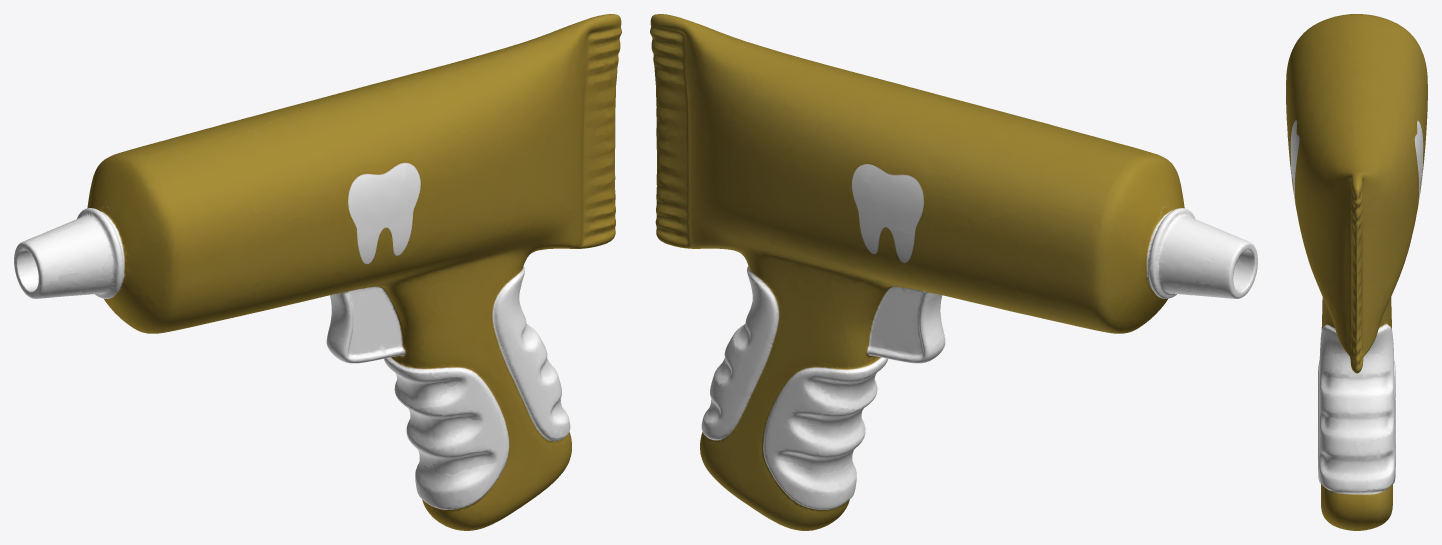
Rendered from PasteGold2.glb.
3 renders of one model, left to right at view 1: azimuth 30°, elevation 25°; view 2: azimuth 150°, elevation 25°; view 3: azimuth 270°, elevation 25°, orthographic. The views are drawn at different scales.
Visible parts, largest first — view 1: mesh_node; view 2: mesh_node; view 3: mesh_node.
Part boxes in pixels (x1=…): mesh_node: x1=14, y1=14, x2=621, y2=530; mesh_node: x1=650, y1=14, x2=1257, y2=530; mesh_node: x1=1286, y1=14, x2=1427, y2=530.
Size of the model in its own units: 1.9 by 1.46 by 0.4665.
1 material, 1 textured.
